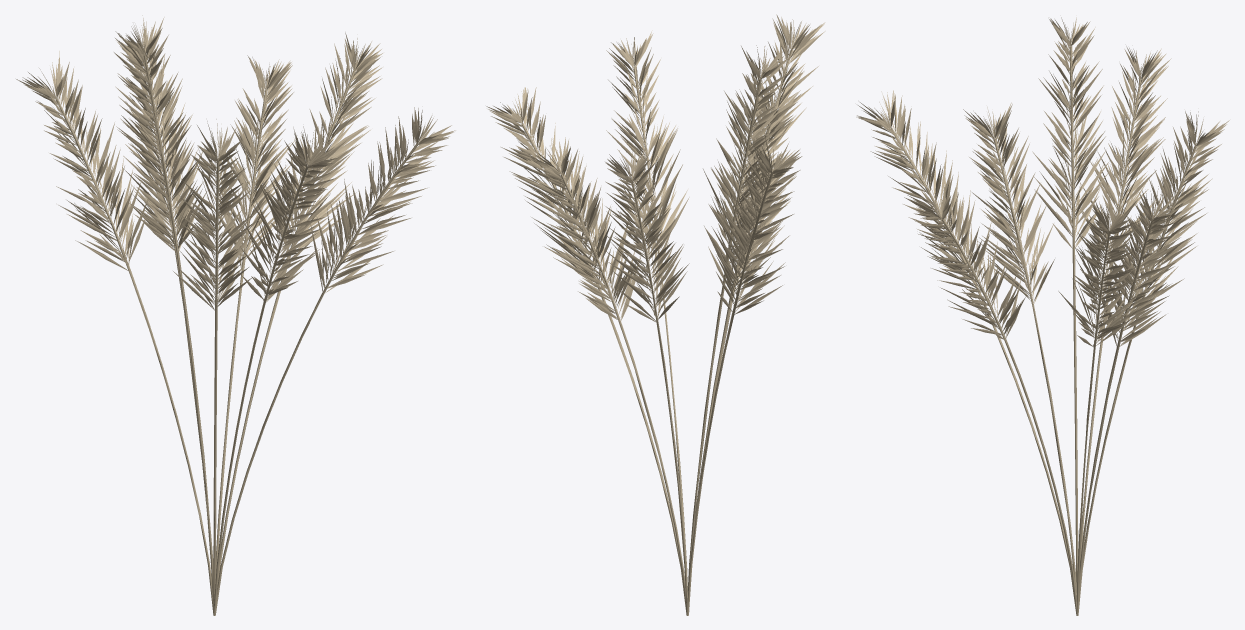
The model's file is pampas-1.glb.
3 renders of one model, left to right at view 1: azimuth 30°, elevation 25°; view 2: azimuth 150°, elevation 25°; view 3: azimuth 270°, elevation 25°, orthographic. The views are drawn at different scales.
Parts seen in each view (by area): view 1: pampas-leaves, pampas-stems; view 2: pampas-leaves, pampas-stems; view 3: pampas-leaves, pampas-stems.
Boxes of the visible parts, box(x1,y1,x2,y2) form: pampas-leaves: box(16, 15, 455, 310); pampas-stems: box(55, 54, 418, 615); pampas-leaves: box(486, 14, 825, 322); pampas-stems: box(521, 50, 791, 615); pampas-leaves: box(856, 17, 1229, 347); pampas-stems: box(890, 46, 1196, 615).
Bounding box in the file's own units: 0.4263 × 0.7266 × 0.4372.
